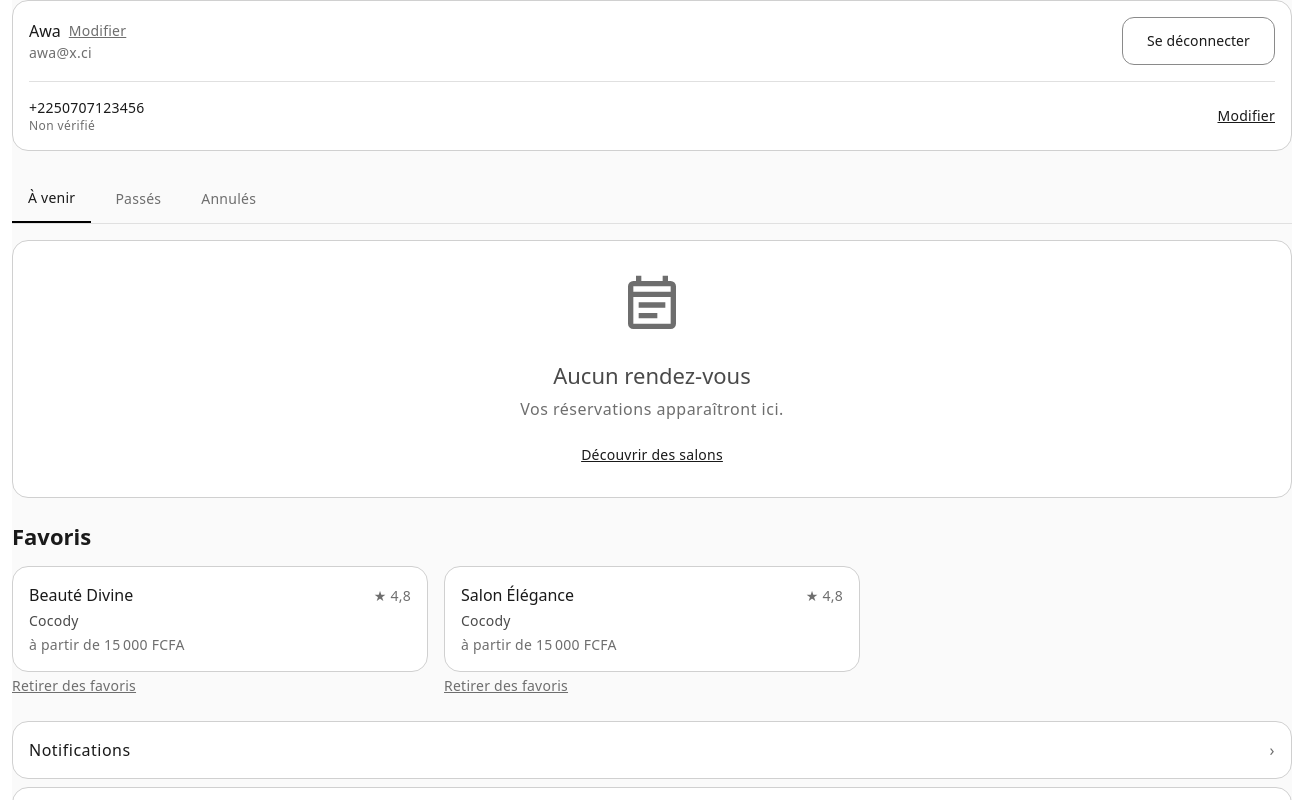
Scenario: Mon compte — « Retirer des favoris » (docs/design/web-consumer-optimistic-revert.md §3.2 ①) › undo is this one card, never a snapshot: a removal that worked meanwhile stays done (SYSTEM §15)
Expected: the heading "Beauté Divine" is shown, [29, 583, 133, 607]
Click the button "Retirer des favoris" below "Beauté Divine" at [74, 686], box [12, 676, 136, 696]
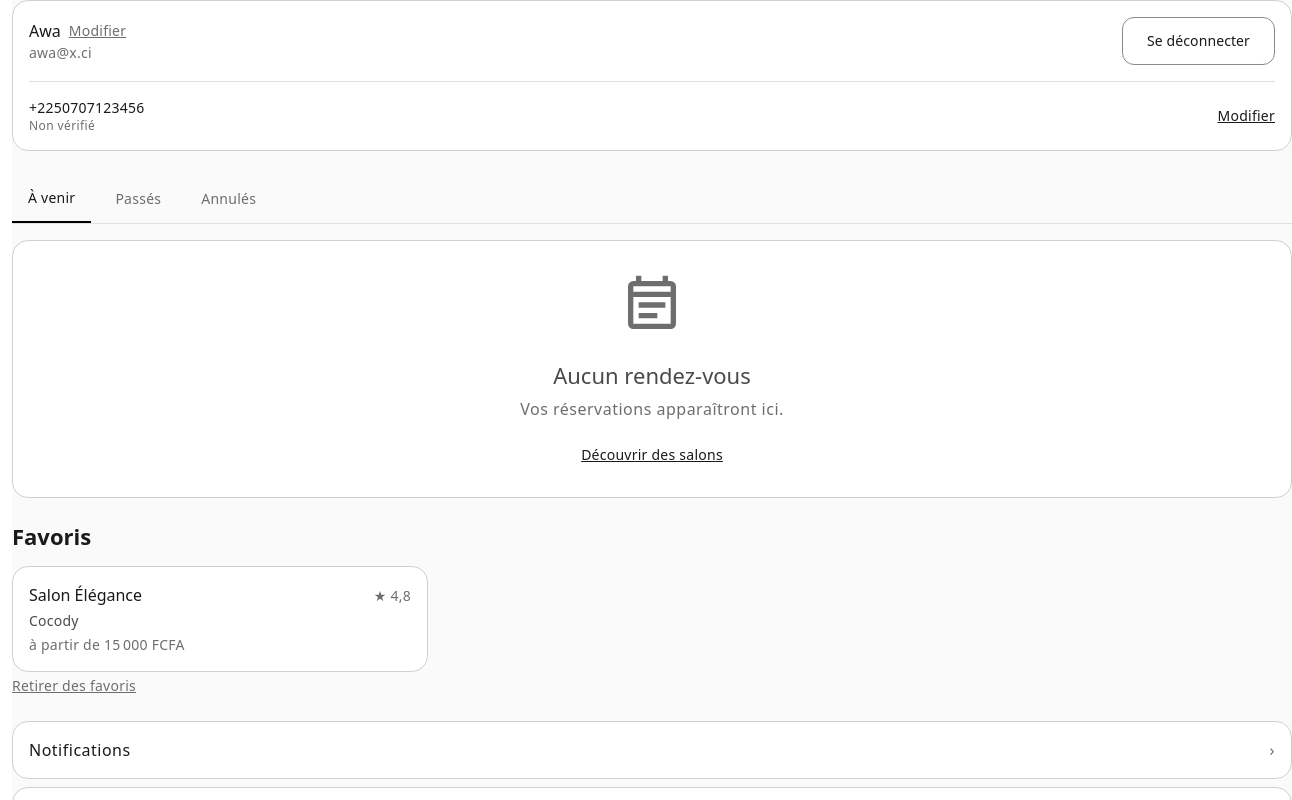
Click the button "Retirer des favoris" at [74, 686], box [12, 676, 136, 696]
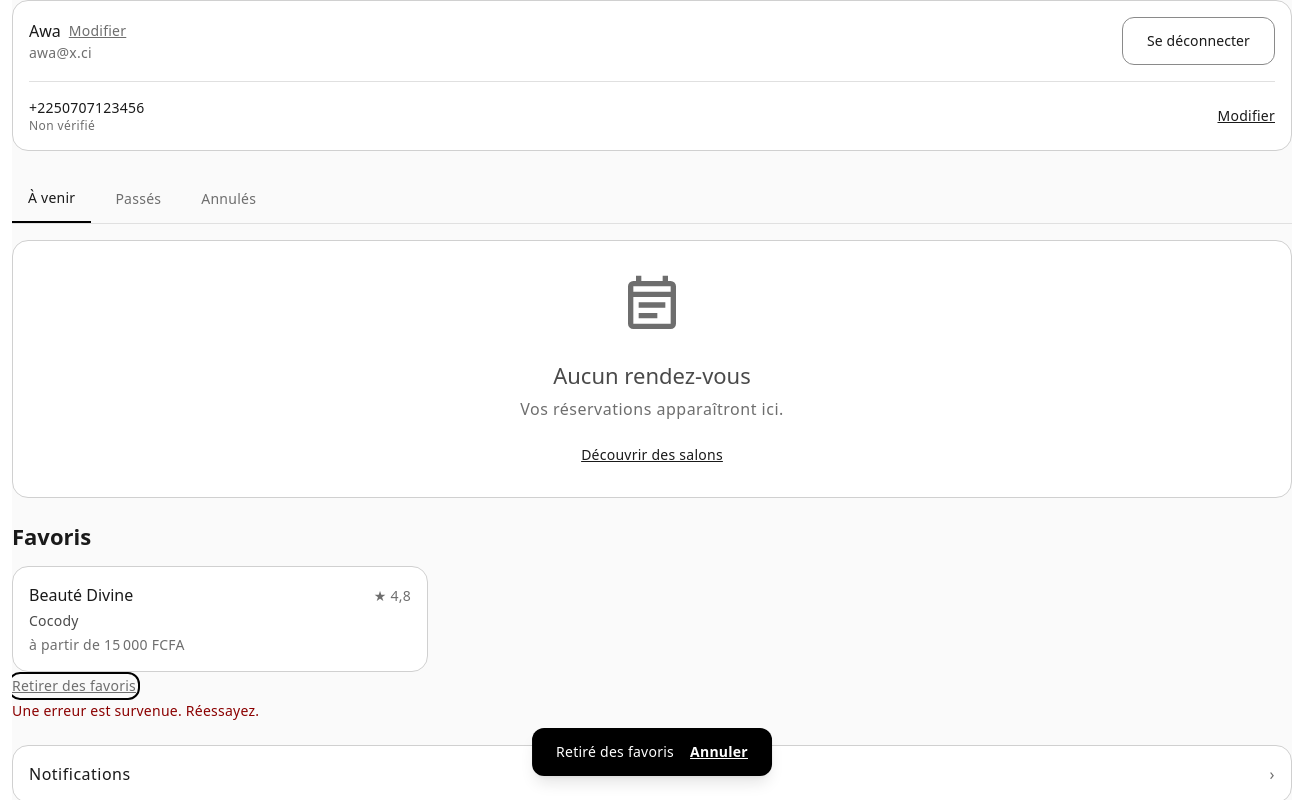
Result: the message "Une erreur est survenue. Réessayez." is shown at [12, 701, 259, 720]
